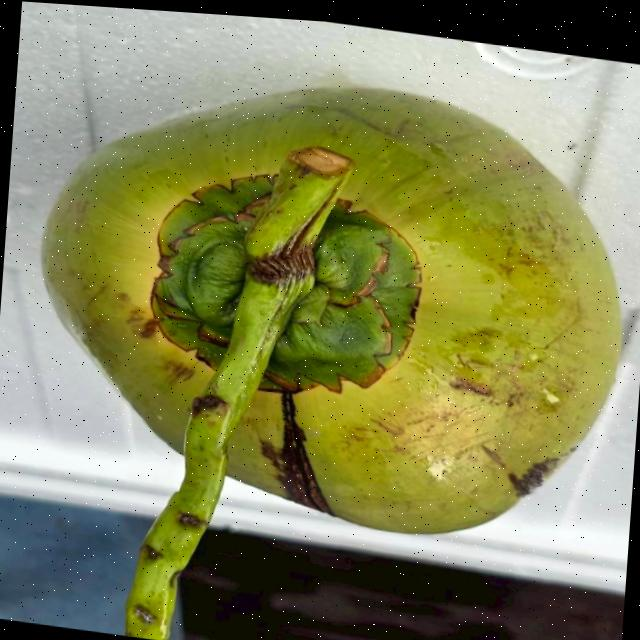coco_2.0: (108, 113, 468, 443)
